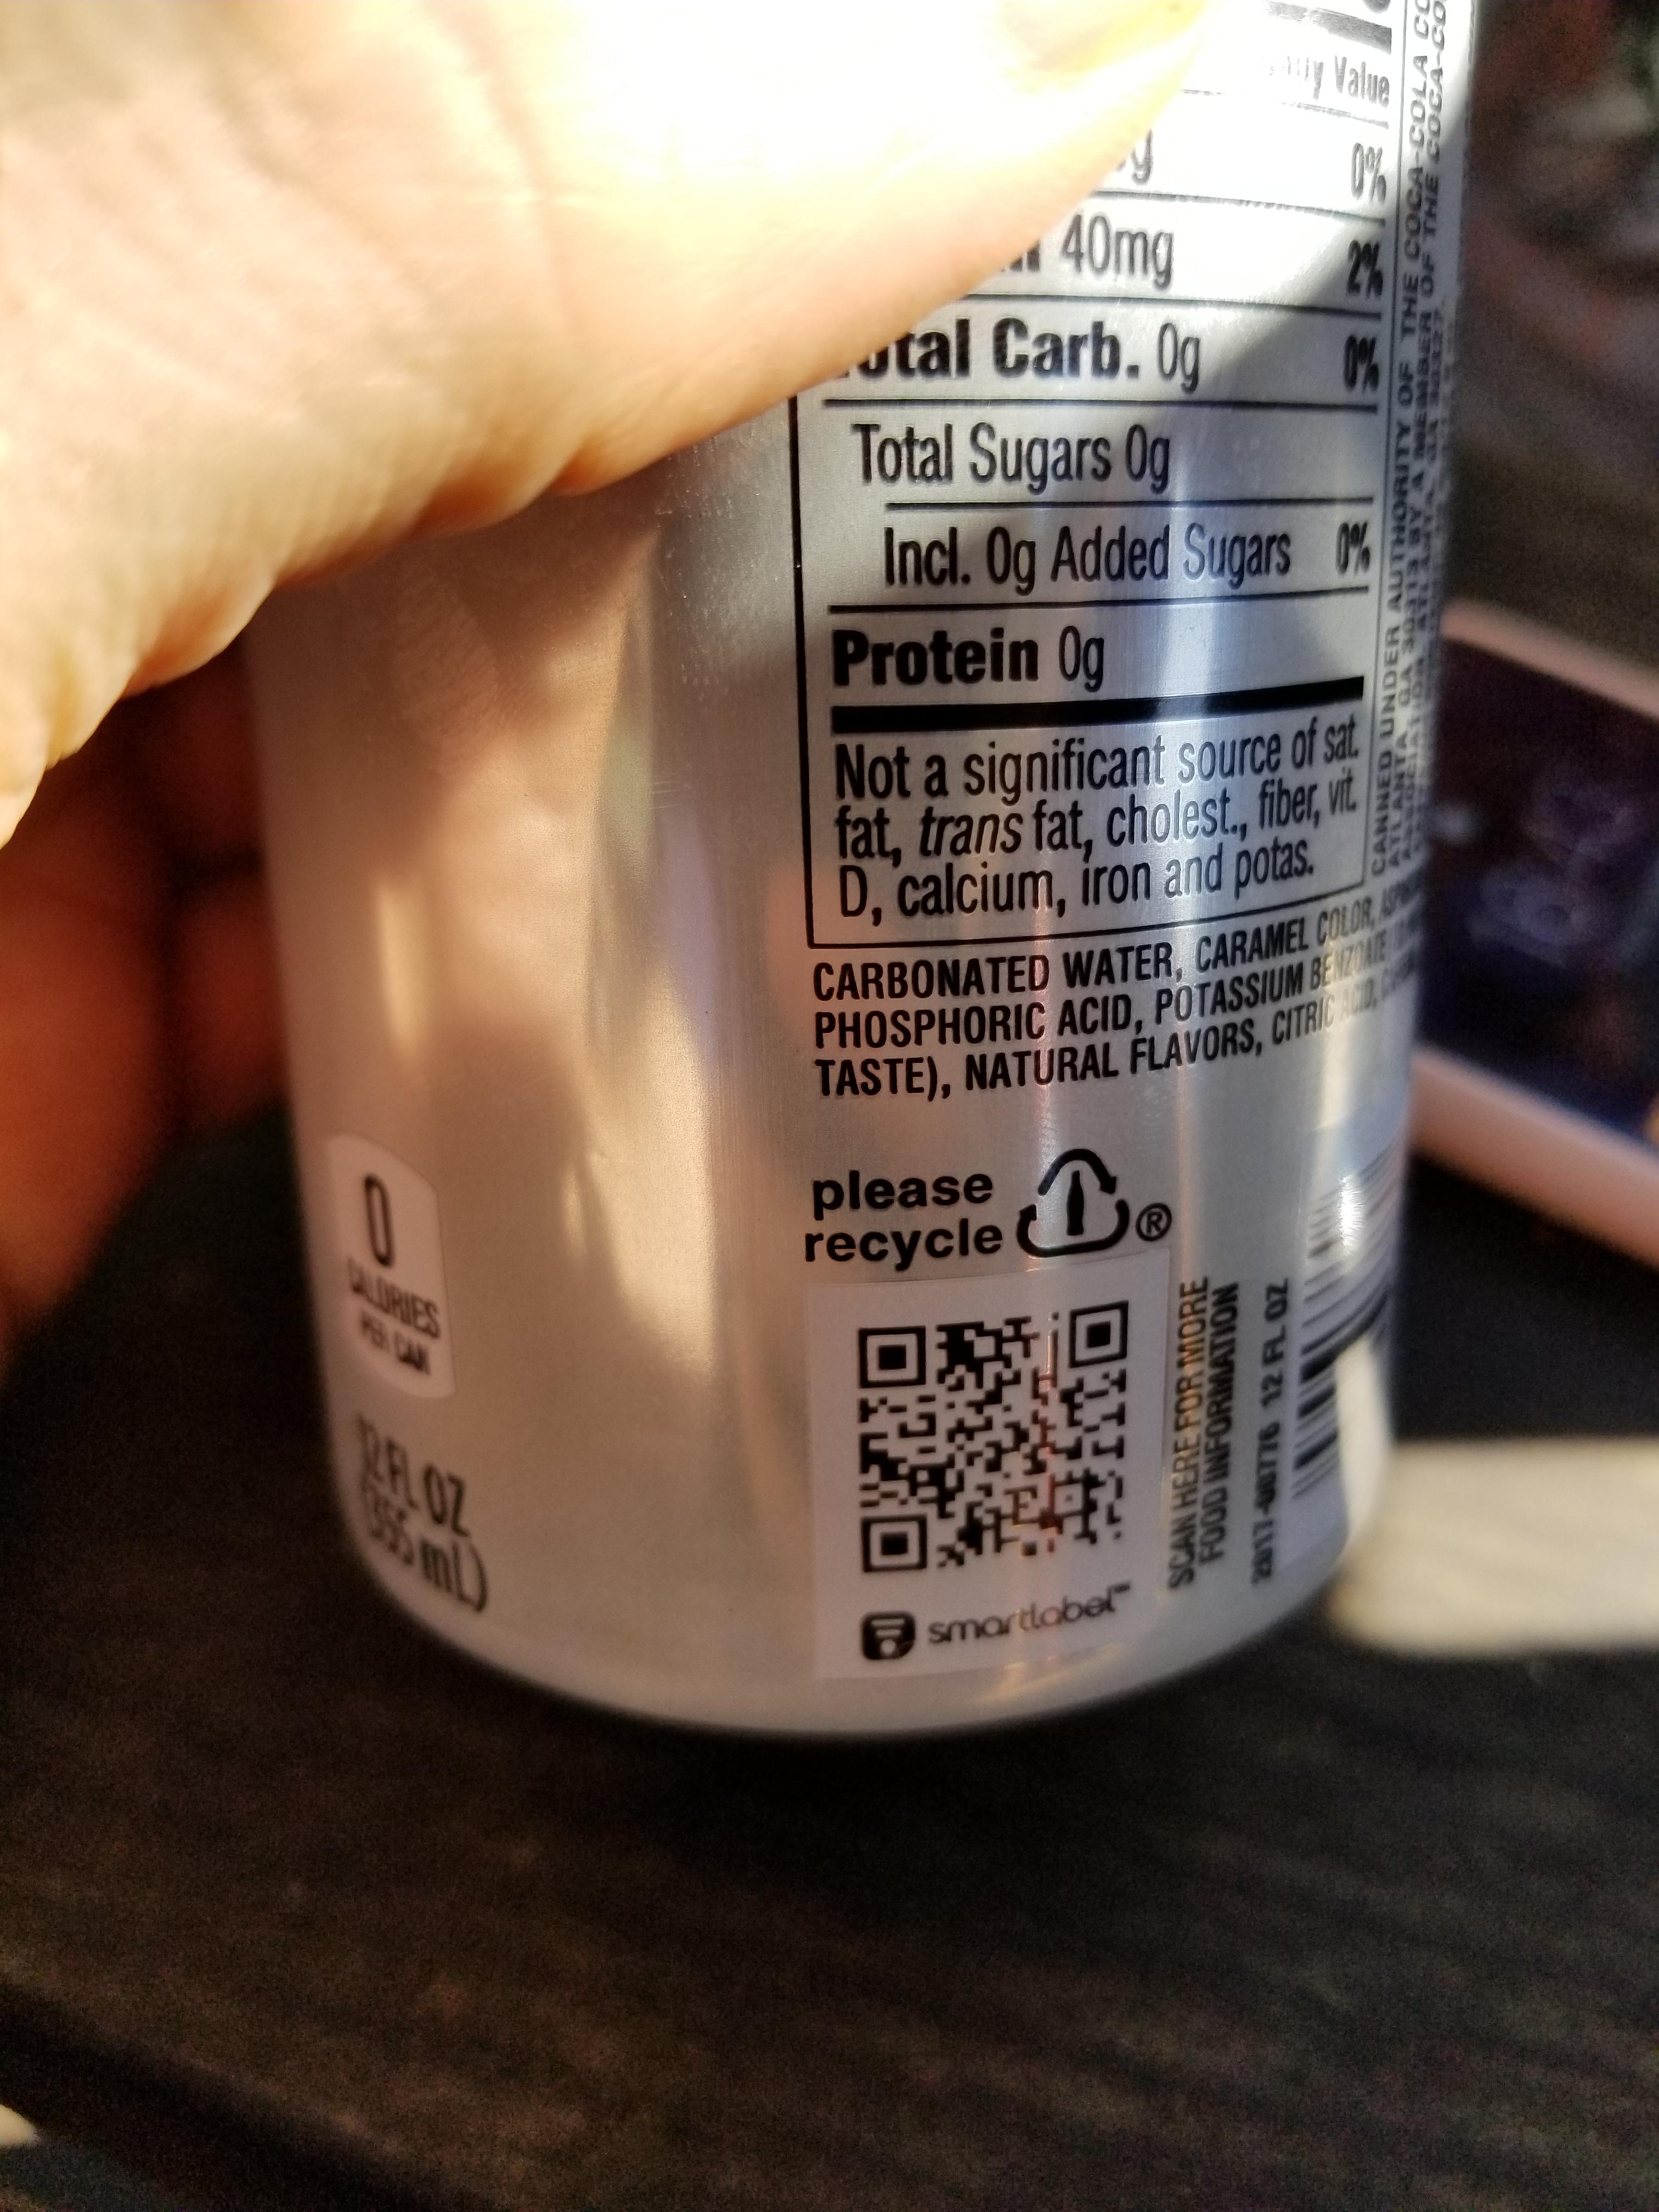QR_CODE: (828, 1266, 1148, 1601)
